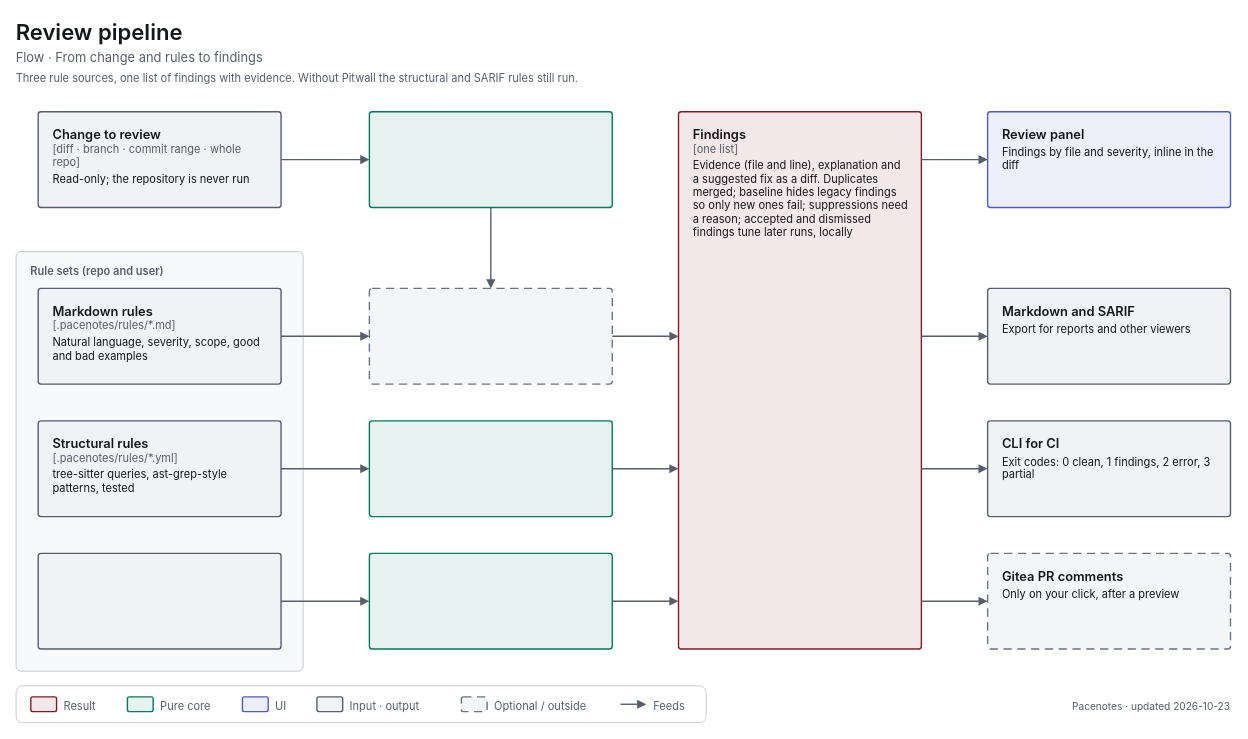
Some shapes in this 1248 by 739 pixel diagram are drawn without their labels. The centre of each missing label's shape, as x and y in pixels:
Ground in the index Callers, tests, owners, coverage and history of what changed: point (490, 159)
Linter results [SARIF] clippy, ESLint, Roslyn analyzers… imported, never run: point (159, 600)
Local model check [Pitwall · optional] Judges each rule; must cite file and line: point (490, 335)
Pattern engine Matches structural rules on changed code: point (490, 468)
SARIF import Maps results onto the change: point (490, 600)
